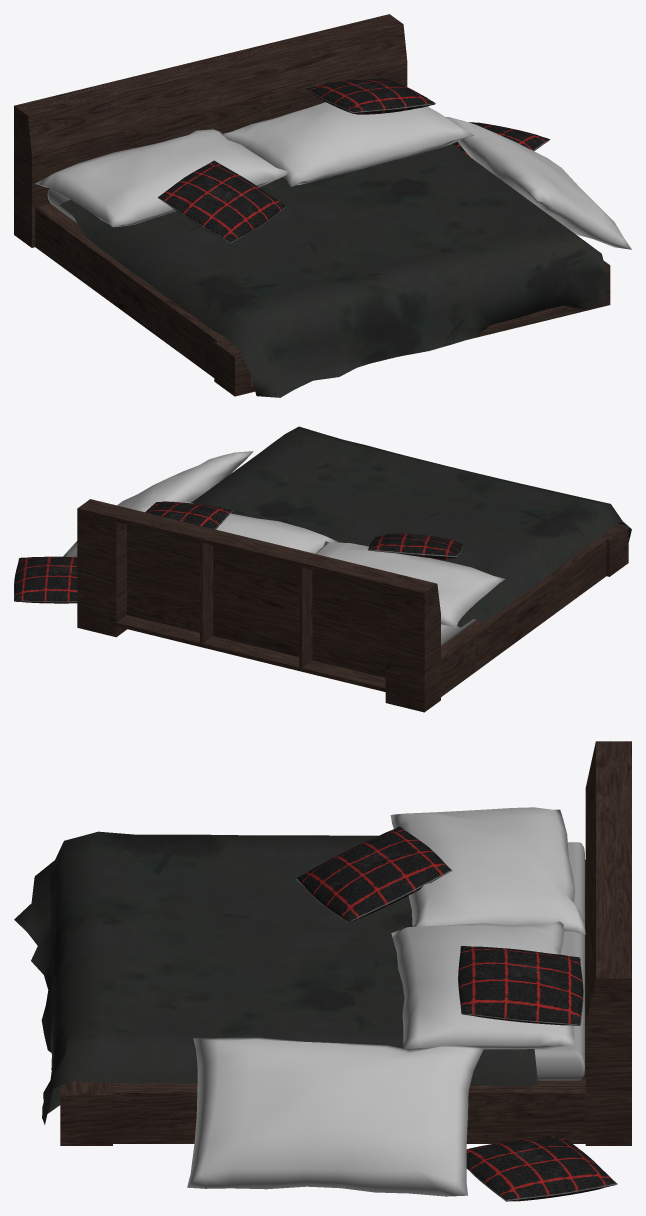
The picture shows the model from 3 angles, top to bottom: view 1: azimuth 30°, elevation 25°; view 2: azimuth 150°, elevation 25°; view 3: azimuth 270°, elevation 25°; orthographic projection. The views are drawn at different scales.
Visible parts, largest first — view 1: Bed, Pillow_2.001, Pillow_2, Pillow_2.002, Plane.001, Plane.000, Plane.002; view 2: Bed, Pillow_2, Pillow_2.002, Plane.002, Pillow_2.001, Plane.001, Plane.000; view 3: Bed, Pillow_2.002, Pillow_2, Pillow_2.001, Plane.000, Plane.001, Plane.002.
Part boxes in pixels (x1=…): Bed: x1=14, y1=14, x2=610, y2=397; Pillow_2.001: x1=221, y1=86, x2=474, y2=186; Pillow_2: x1=35, y1=129, x2=287, y2=227; Pillow_2.002: x1=446, y1=117, x2=631, y2=249; Plane.001: x1=157, y1=160, x2=286, y2=243; Plane.000: x1=305, y1=78, x2=435, y2=114; Plane.002: x1=452, y1=122, x2=550, y2=156; Bed: x1=77, y1=426, x2=631, y2=712; Pillow_2: x1=315, y1=541, x2=505, y2=627; Pillow_2.002: x1=63, y1=451, x2=253, y2=557; Plane.002: x1=14, y1=556, x2=77, y2=603; Pillow_2.001: x1=161, y1=501, x2=339, y2=553; Plane.001: x1=368, y1=533, x2=463, y2=560; Plane.000: x1=145, y1=501, x2=233, y2=529; Bed: x1=14, y1=741, x2=631, y2=1145; Pillow_2.002: x1=187, y1=1037, x2=484, y2=1196; Pillow_2: x1=390, y1=807, x2=585, y2=934; Pillow_2.001: x1=391, y1=921, x2=574, y2=1049; Plane.000: x1=458, y1=946, x2=583, y2=1025; Plane.001: x1=296, y1=826, x2=452, y2=922; Plane.002: x1=466, y1=1136, x2=617, y2=1201.
Size of the model in its own units: 288 by 72.59 by 241.
5 materials, 5 textured.
